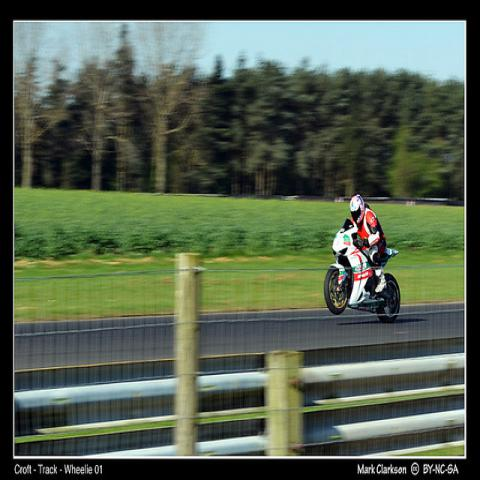motorcycle: (324, 220, 400, 322)
